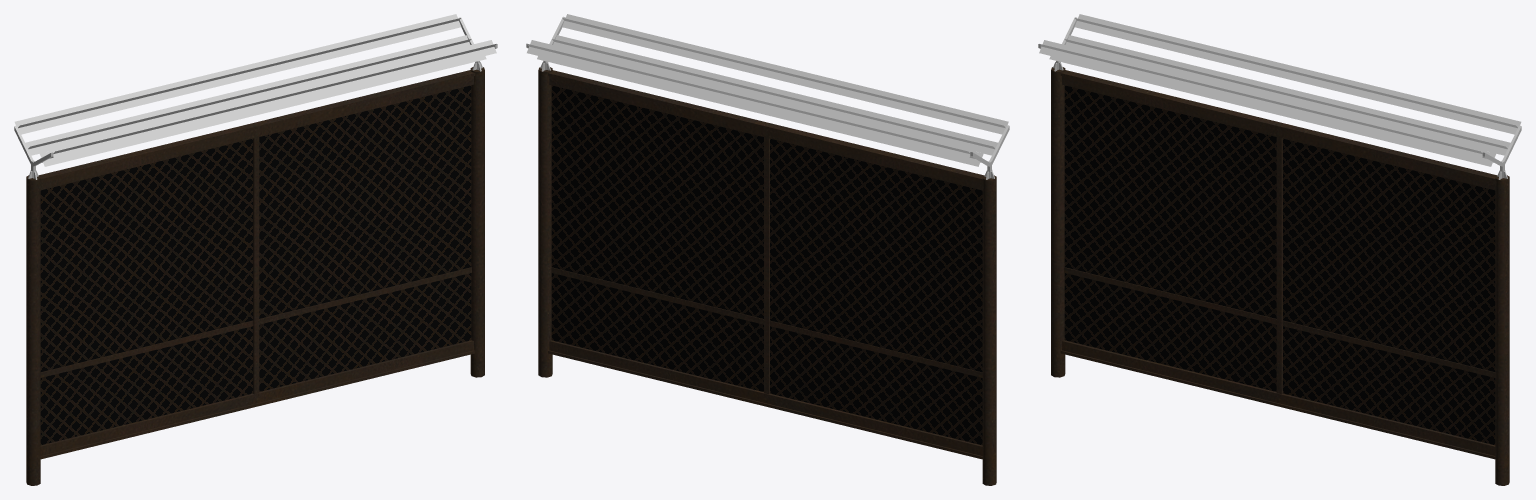
Rendered from fence_e_2.fbx.
3 renders of one model, left to right at view 1: azimuth 30°, elevation 25°; view 2: azimuth 150°, elevation 25°; view 3: azimuth 330°, elevation 25°, orthographic.
Visible parts, largest first — view 1: fence_e_2; view 2: fence_e_2; view 3: fence_e_2.
Part boxes in pixels (bbox=[...]): fence_e_2: bbox=[14, 14, 497, 485]; fence_e_2: bbox=[526, 14, 1009, 485]; fence_e_2: bbox=[1038, 14, 1521, 485].
Bounding box in the file's own units: 3.6 × 0.5551 × 2.61.
